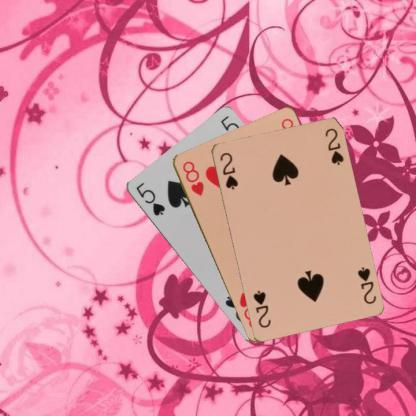2s: (354, 264, 377, 305), (217, 150, 240, 190)
5s: (133, 180, 166, 218)
8h: (179, 158, 205, 198)
